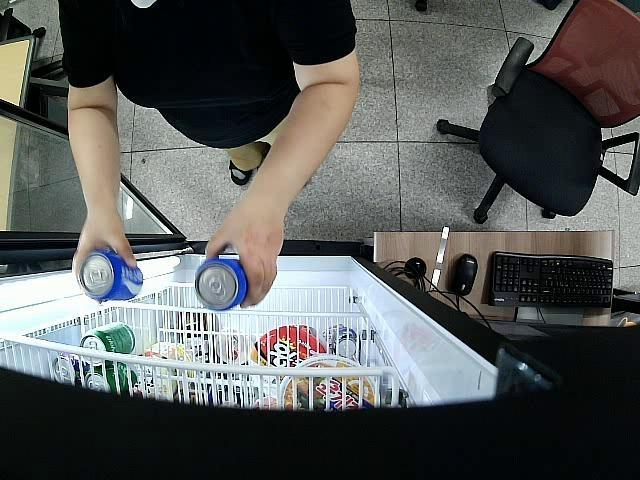13_pocariSweat: (80, 250, 144, 301), (194, 258, 248, 312)
